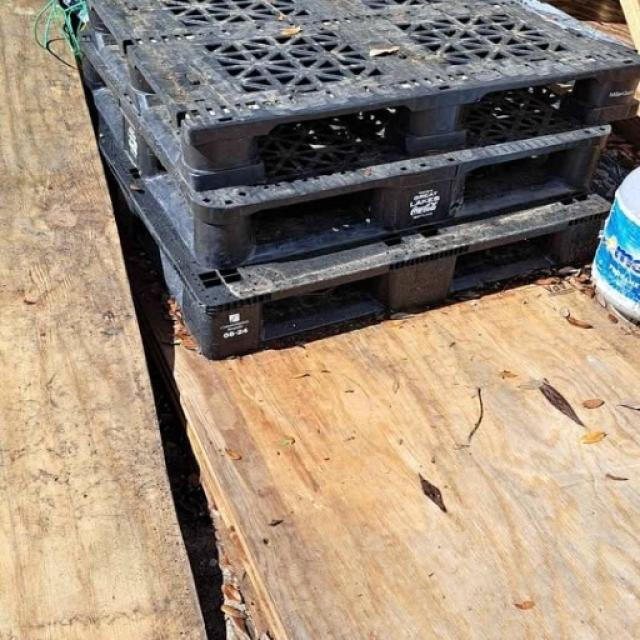non-igps: (91, 98, 622, 367), (68, 23, 619, 280), (72, 0, 640, 195)
